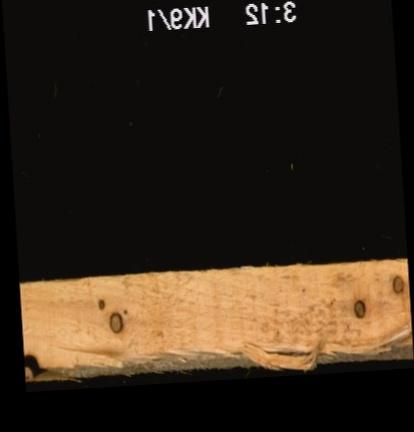dry_knot: (107, 308, 123, 332), (351, 296, 365, 317), (391, 272, 404, 292), (96, 296, 105, 309)
edge_knot: (23, 350, 49, 377)
